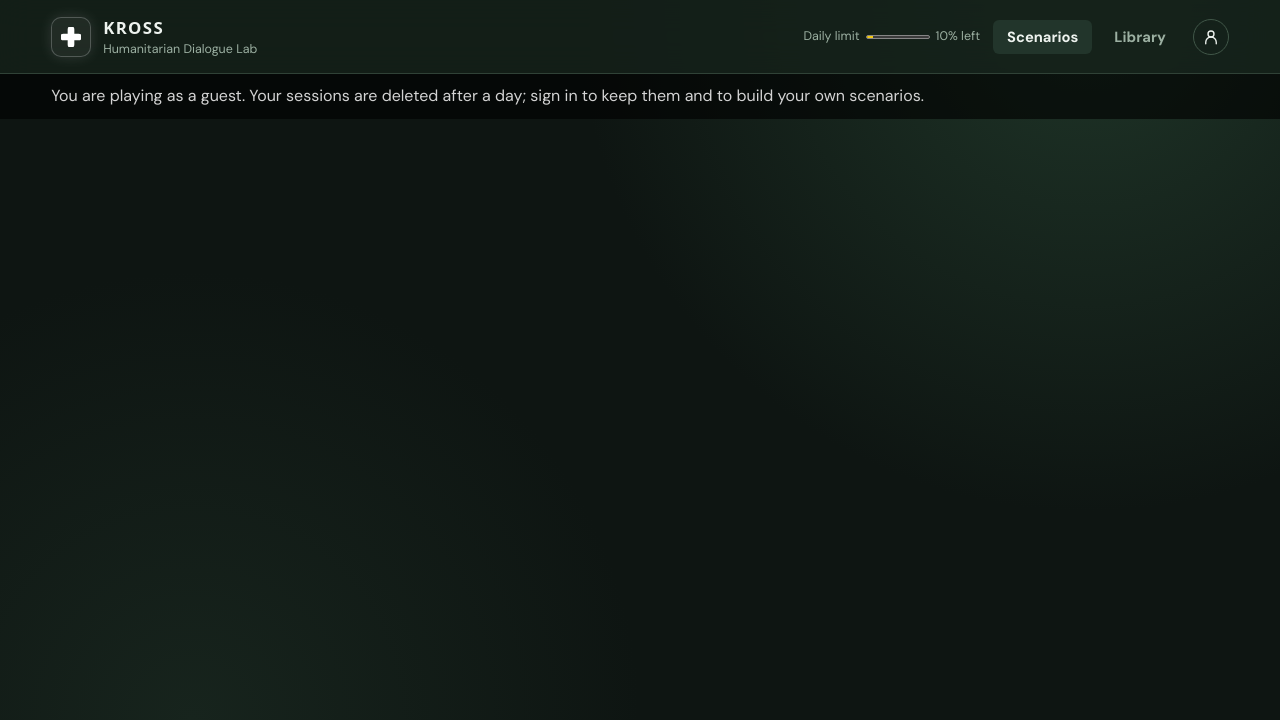
Test: Layout › tells a guest so, offers sign-in and hides the account and authoring controls
This screenshot has width=1280, height=720.
Expected: the text "You are playing as a guest" is shown, [51, 85, 924, 106]
Expected: the button "Leave" is not shown
Click the button named "Profile menu" at (1211, 36), box [1193, 18, 1229, 54]
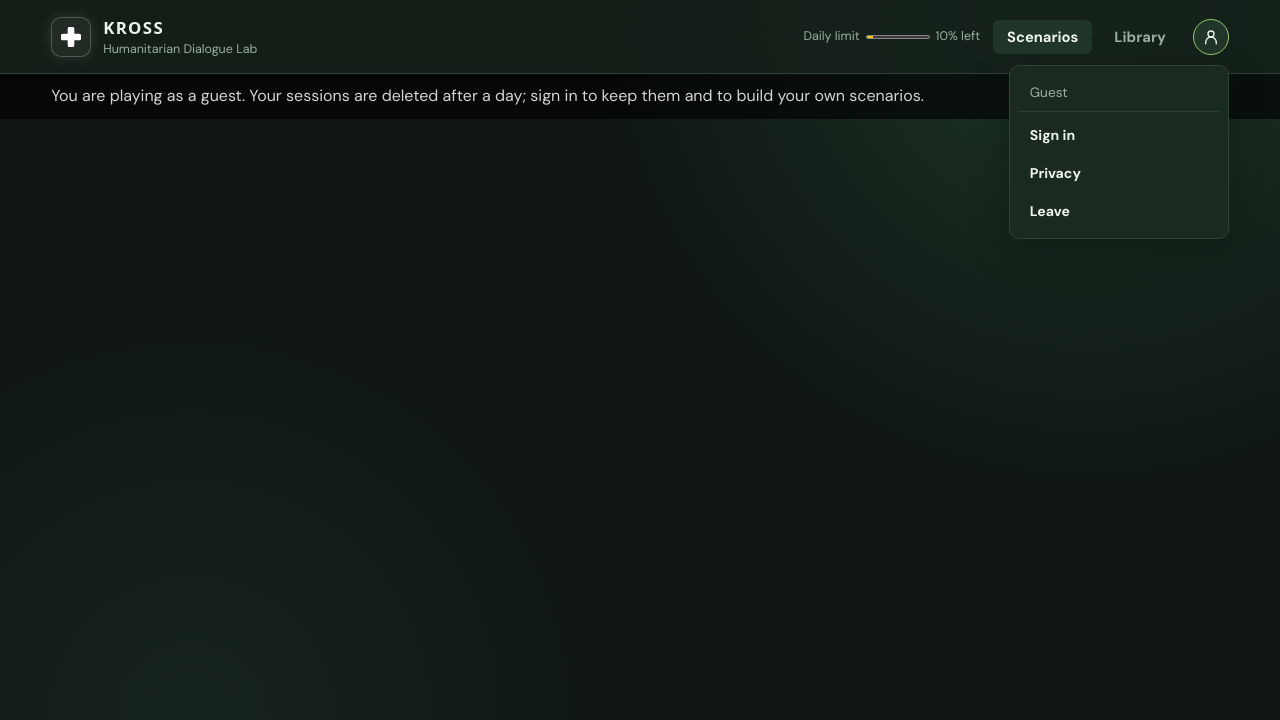
Expected: the button "Leave" is shown, [1018, 192, 1220, 230]
